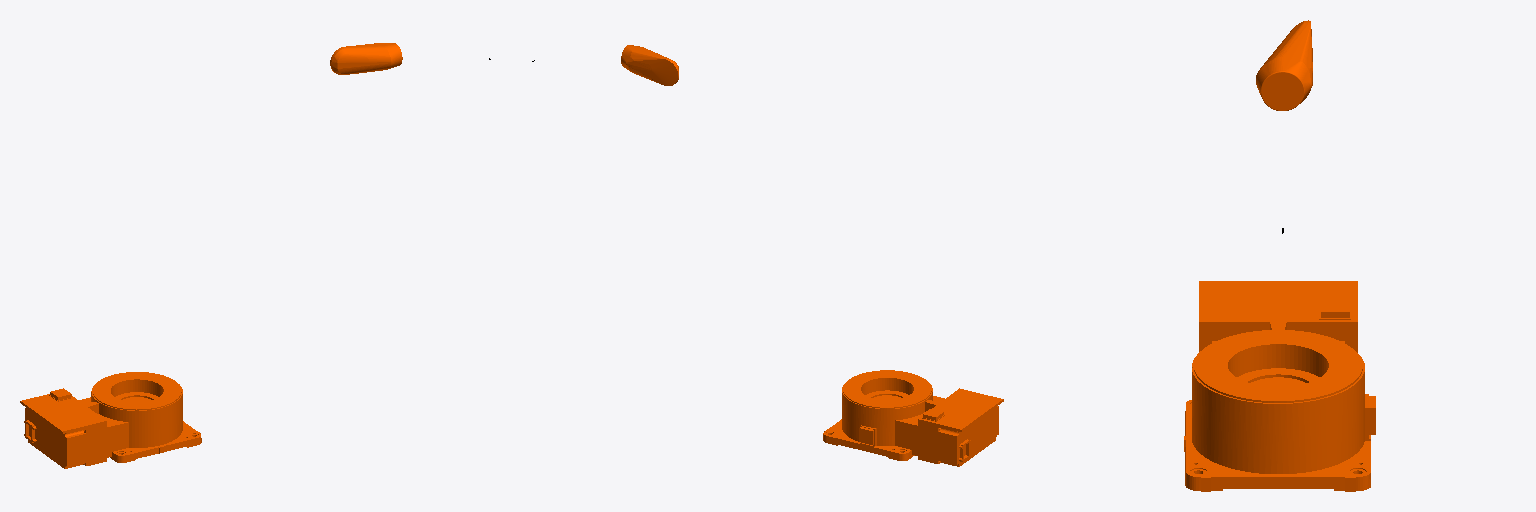
URDF robot description (abb_irb1520id_scaled):
<?xml version="1.0"?>
<robot name="abb_irb1520id_scaled" xmlns:xacro="http://ros.org/wiki/xacro">
  <link name="base_link">
    <visual>
      <origin rpy="0 0 0" xyz="0 0 1.7993"/>
      <geometry>
        <mesh filename="./meshes/irb1520id/stl/visual/base.stl" scale="0.01 0.01 0.01"/>
      </geometry>
      <material name="abb_orange">
        <color rgba="1 0.43 0 1"/>
      </material>
    </visual>
    <collision>
      <origin rpy="0 0 0" xyz="0 0 1.7993"/>
      <geometry>
        <mesh filename="./meshes/irb1520id/stl/collision/base.stl" scale="0.01 0.01 0.01"/>
      </geometry>
    </collision>
  </link>

  <link name="link_1">
    <visual>
      <origin rpy="1.5708 0 0" xyz="0 0 1.2693"/>
      <geometry>
        <mesh filename="./meshes/irb1520id/stl/visual/link1.stl" scale="0.01 0.01 0.01"/>
      </geometry>
      <material name="abb_orange"/>
    </visual>
    <collision>
      <origin rpy="1.5708 0 0" xyz="0 0 1.2693"/>
      <geometry>
        <mesh filename="./meshes/irb1520id/stl/collision/link1.stl" scale="0.01 0.01 0.01"/>
      </geometry>
    </collision>
  </link>

  <joint name="joint_1" type="revolute">
    <origin rpy="0 0 0" xyz="0 0 0.0005"/>
    <parent link="base_link"/>
    <child link="link_1"/>
    <axis xyz="0 0 1"/>
    <limit 
      effort="0" 
      lower="-2.9670" 
      upper="2.9670" 
      velocity="3.142"/>
    <dynamics damping="0" friction="0"/>
  </joint>

  <link name="link_2">
    <visual>
      <origin rpy="1.5708 0 0" xyz="0 0 0"/>
      <geometry>
        <mesh filename="./meshes/irb1520id/stl/visual/link2.stl" scale="0.01 0.01 0.01"/>
      </geometry>
      <material name="abb_orange"/>
    </visual>
    <collision>
      <origin rpy="1.5708 0 0" xyz="0 0 0"/>
      <geometry>
        <mesh filename="./meshes/irb1520id/stl/collision/link2.stl" scale="0.01 0.01 0.01"/>
      </geometry>
    </collision>
  </link>

  <joint name="joint_2" type="revolute">
    <origin rpy="0 0 0" xyz="1.6 -0.9 4.5693"/>
    <parent link="link_1"/>
    <child link="link_2"/>
    <axis xyz="0 1 0"/>
    <limit 
      effort="0" 
      lower="-1.5708" 
      upper="2.6180" 
      velocity="3.142"/>
    <dynamics damping="0" friction="0"/>
  </joint>

  <link name="link_3">
    <visual>
      <origin rpy="1.5708 0 0" xyz="0 0 0"/>
      <geometry>
        <mesh filename="./meshes/irb1520id/stl/visual/link3.stl" scale="0.01 0.01 0.01"/>
      </geometry>
      <material name="abb_orange"/>
    </visual>
    <collision>
      <origin rpy="1.5708 0 0" xyz="0 0 0"/>
      <geometry>
        <mesh filename="./meshes/irb1520id/stl/collision/link3.stl" scale="0.01 0.01 0.01"/>
      </geometry>
    </collision>
  </link>

  <joint name="joint_3" type="revolute">
    <origin rpy="0 0 0" xyz="0 -0.23 5.9255"/>
    <parent link="link_2"/>
    <child link="link_3"/>
    <axis xyz="0 1 0"/>
    <limit 
      effort="0" 
      lower="-1.7453" 
      upper="1.3963" 
      velocity="3.142"/>
    <dynamics damping="0" friction="0"/>
  </joint>

  <link name="link_4">
    <visual>
      <origin rpy="0 -1.5708 0" xyz="0 0 0"/>
      <geometry>
        <mesh filename="./meshes/irb1520id/stl/visual/link4.stl" scale="0.01 0.01 0.01"/>
      </geometry>
      <material name="abb_orange"/>
    </visual>
    <collision>
      <origin rpy="0 -1.5708 0" xyz="0 0 0"/>
      <geometry>
        <mesh filename="./meshes/irb1520id/stl/collision/link4.stl" scale="0.01 0.01 0.01"/>
      </geometry>
    </collision>
  </link>

  <joint name="joint_4" type="revolute">
    <origin rpy="1.5708 0 0" xyz="2.17 1.21677 2"/>
    <parent link="link_3"/>
    <child link="link_4"/>
    <axis xyz="1 0 0"/>
    <limit 
      effort="0" 
      lower="-2.7053" 
      upper="2.7053" 
      velocity="5.585"/>
    <dynamics damping="0" friction="0"/>
  </joint>

  <link name="link_5">
    <visual>
      <origin rpy="0 0 0" xyz="0 0 0"/>
      <geometry>
        <mesh filename="./meshes/irb1520id/stl/visual/link5.stl" scale="0.01 0.01 0.01"/>
      </geometry>
      <material name="abb_orange"/>
    </visual>
    <collision>
      <origin rpy="0 0 0" xyz="0 0 0"/>
      <geometry>
        <mesh filename="./meshes/irb1520id/stl/collision/link5.stl" scale="0.01 0.01 0.01"/>
      </geometry>
    </collision>
  </link>

  <joint name="joint_5" type="revolute">
    <origin rpy="0 0 0" xyz="5.0637 0 -0.51885"/>
    <parent link="link_4"/>
    <child link="link_5"/>
    <axis xyz="0 0 1"/>
    <limit 
      effort="0" 
      lower="-2.3562" 
      upper="2.3562" 
      velocity="6.632"/>
    <dynamics damping="0" friction="0"/>
  </joint>

  <link name="link_6">
    <visual>
      <origin rpy="0 1.5708 0" xyz="0 0 0"/>
      <geometry>
        <mesh filename="./meshes/irb1520id/stl/visual/link6.stl" scale="0.01 0.01 0.01"/>
      </geometry>
      <material name="abb_orange"/>
    </visual>
    <collision>
      <origin rpy="0 1.5708 0" xyz="0 0 0"/>
      <geometry>
        <mesh filename="./meshes/irb1520id/stl/collision/link6.stl" scale="0.01 0.01 0.01"/>
      </geometry>
    </collision>
  </link>

  <joint name="joint_6" type="revolute">
    <origin rpy="0 0 0" xyz="1.9 0 0.525"/>
    <parent link="link_5"/>
    <child link="link_6"/>
    <axis xyz="1 0 0"/>
    <limit 
      effort="0" 
      lower="-3.4907" 
      upper="3.4907" 
      velocity="8.029"/>
    <dynamics damping="0" friction="0"/>
  </joint>

  <link name="tool0">
      <visual>
      <origin rpy="0 1.5708 0" xyz="0.1 0 0"/>
      <geometry>
        <mesh filename="./meshes/irb1520id/stl/visual/torch.stl" scale="0.01 0.01 0.01"/>
      </geometry>
      <material name="abb_orange"/>
    </visual>
    <collision>
      <origin rpy="0 1.5708 0" xyz="0.1 0 0"/>
      <geometry>
        <mesh filename="./meshes/irb1520id/stl/collision/torch.stl" scale="0.01 0.01 0.01"/>
      </geometry>
    </collision>
  </link>

  <joint name="joint_6-tool0" type="fixed">
    <parent link="link_6"/>
    <child link="tool0"/>
    <origin rpy="3.1416 0 0" xyz="0 0 0"/>
  </joint>

    <link name="attachment">
      <inertial>
         <origin xyz="0.0 0.0 0.0" rpy="0.0 0.0 0.0"/>
         <mass value="0.001"/>
         <inertia ixx="1e-09" iyy="1e-09" izz="1e-09" ixy="0" ixz="0" iyz="0"/>
      </inertial>
       <visual>
         <origin xyz="0 0 0" rpy="0 0 0"/>
         <geometry>
            <cylinder radius="0.02" length="0.1"/>
         </geometry>
         <material name="orange">
            <color rgba="0 0 0 1"/>
         </material>
      </visual>
   </link>
    
   <joint type="fixed" name="tool0-attachement">
      <parent link="tool0"/>
      <child link="attachment"/>
      <origin xyz="3.85893 1.09393 0" rpy="1.5708 0 -0.784"/>
   </joint>
</robot>

--- What the picture shows (computed from the rendered views, not written in the file) ---
Views: 3 orthographic renders of the robot side by side, from view 1: azimuth 30°, elevation 25°; view 2: azimuth 150°, elevation 25°; view 3: azimuth 270°, elevation 25°.
Model abb_irb1520id_scaled with 9 links and 8 joints (6 revolute, 2 fixed), rooted at base_link, posed all joints at 0.
Links seen in each view (by area): view 1: base_link, link_5; view 2: base_link, link_5; view 3: base_link, link_5.
Link boxes in pixels (x1,y1,x2,y2): base_link: [20, 372, 201, 468]; link_5: [330, 43, 402, 74]; base_link: [823, 370, 1003, 466]; link_5: [621, 45, 678, 85]; base_link: [1184, 281, 1375, 491]; link_5: [1256, 20, 1312, 110].
Size in the robot's own frame: 18.58 by 3.6 by 13.02 metres.
Meshes: 8 distinct files referenced, 2 mesh visuals loaded (2 binary STL); not drawn: 6 (reference not matched to a file when rendering).